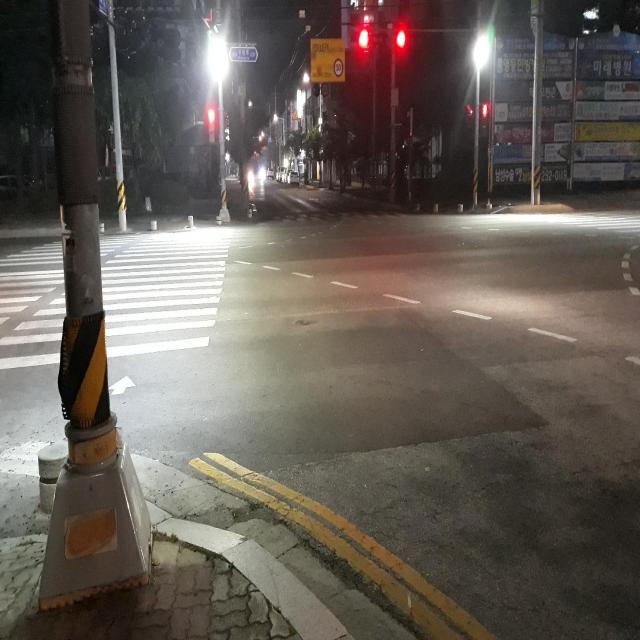빨간불: (206, 106, 220, 153), (482, 102, 491, 142)
횡단보도: (0, 224, 237, 400), (501, 209, 640, 235)
